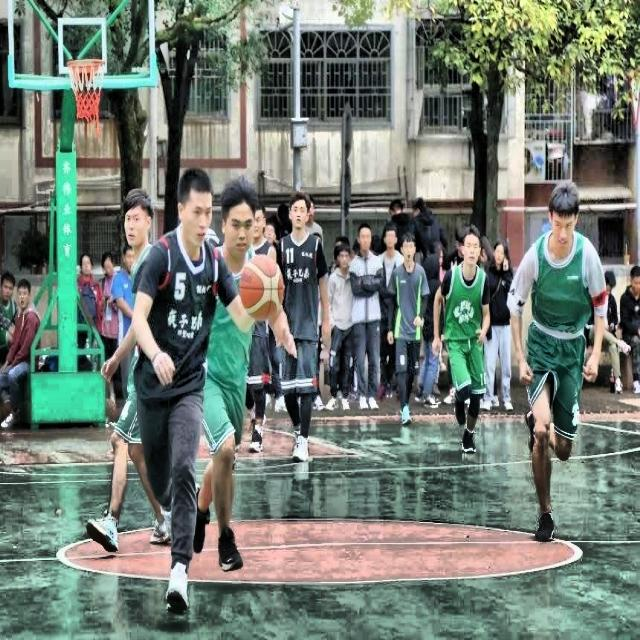board: (240, 254, 284, 324)
